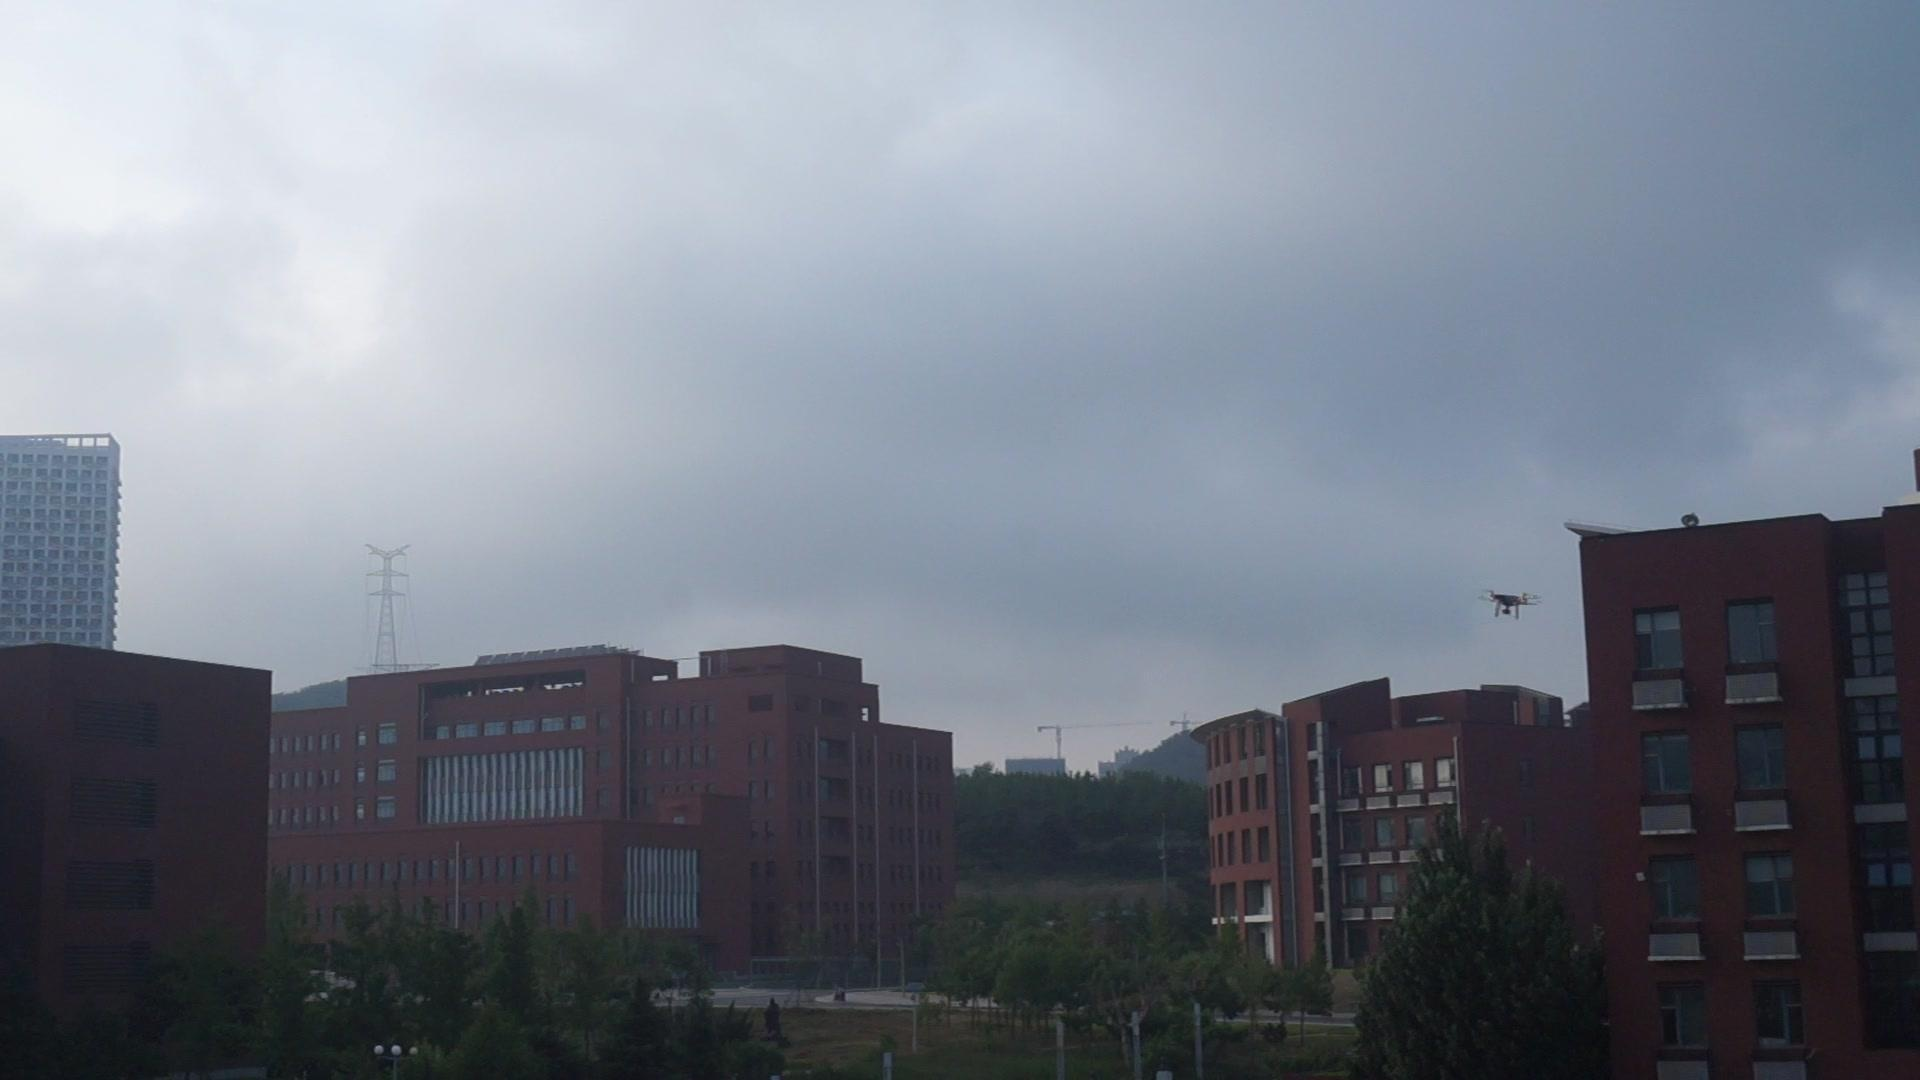UAV: (1480, 589, 1545, 621)
